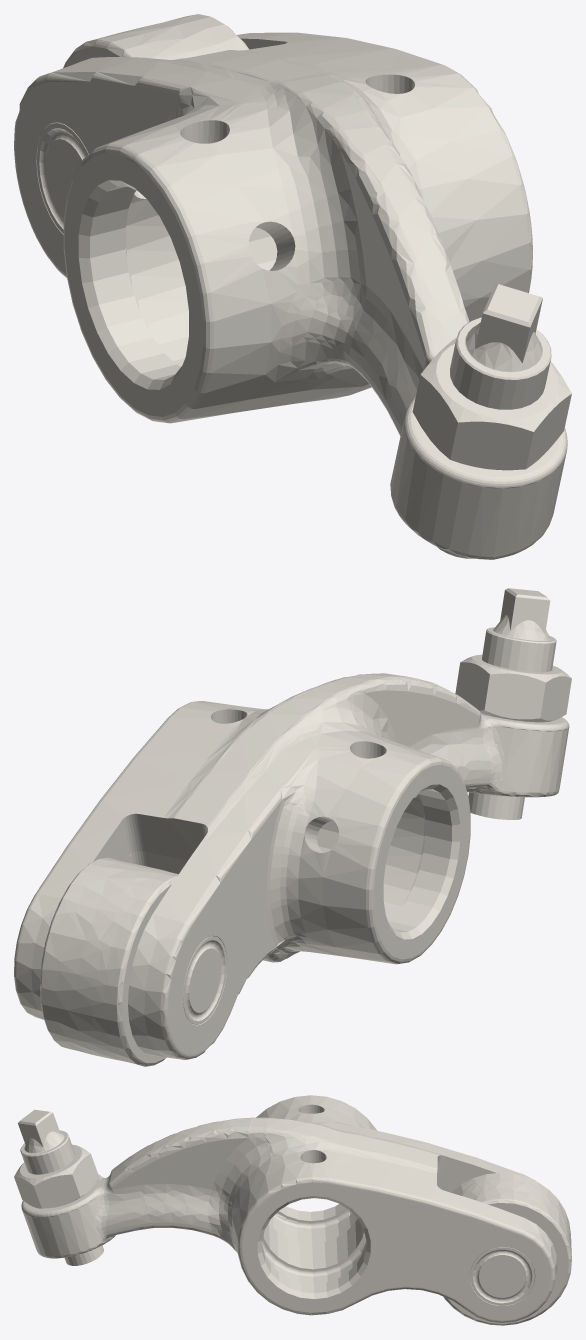
Rendered from Rocket arm, Cam Roller, BZ Pin .glb.
3 renders of one model, top to bottom at view 1: azimuth 30°, elevation 25°; view 2: azimuth 150°, elevation 25°; view 3: azimuth 270°, elevation 25°, orthographic. The views are drawn at different scales.
Parts seen in each view (by area): view 1: mat_1.003, mat_7, mat_3.001, mat_2.003; view 2: mat_1.003, mat_3.001, mat_7; view 3: mat_1.003, mat_7, mat_3.001, mat_2.003.
Boxes of the visible parts, x1=… form: mat_1.003: x1=14, y1=32, x2=567, y2=559; mat_7: x1=37, y1=122, x2=571, y2=558; mat_3.001: x1=63, y1=14, x2=249, y2=68; mat_2.003: x1=248, y1=227, x2=277, y2=270; mat_1.003: x1=14, y1=673, x2=569, y2=1059; mat_3.001: x1=40, y1=857, x2=178, y2=1066; mat_7: x1=183, y1=588, x2=571, y2=1024; mat_1.003: x1=21, y1=1095, x2=557, y2=1322; mat_7: x1=14, y1=1109, x2=534, y2=1305; mat_3.001: x1=443, y1=1172, x2=571, y2=1325; mat_2.003: x1=262, y1=1219, x2=366, y2=1293.
Bounding box in the file's own units: 0.2518 × 0.2426 × 0.6893.
Materials: 2 (1 with a texture image).
